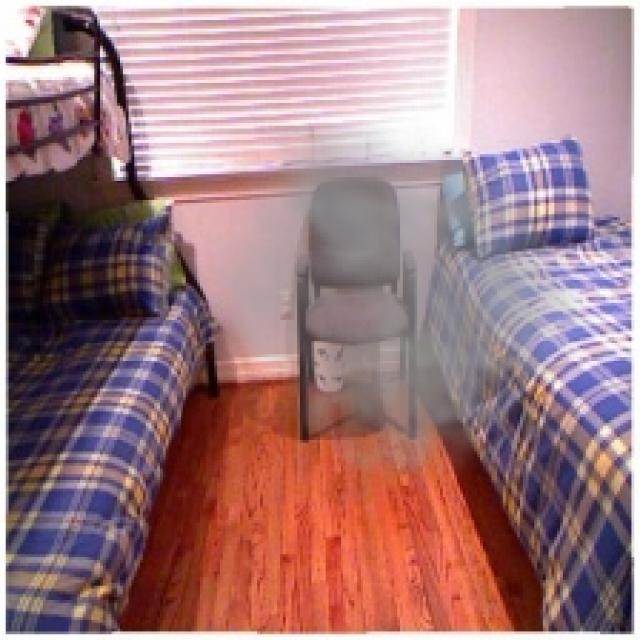smoke: (188, 126, 606, 520)
